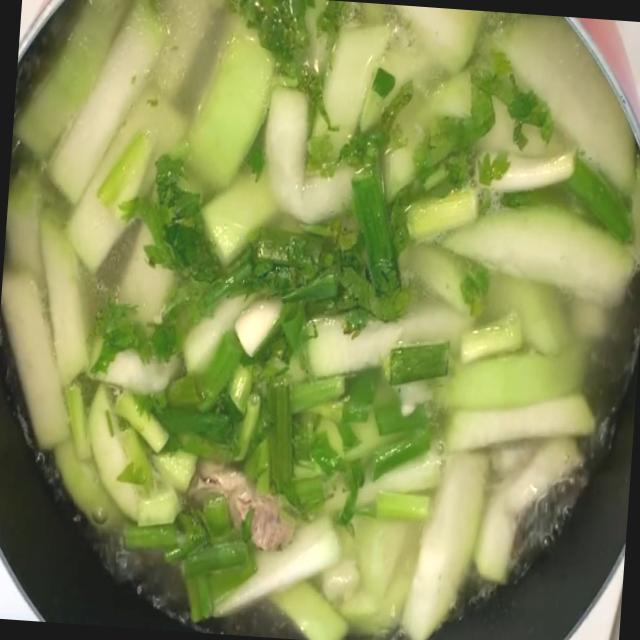canh bau: (0, 0, 640, 640)
